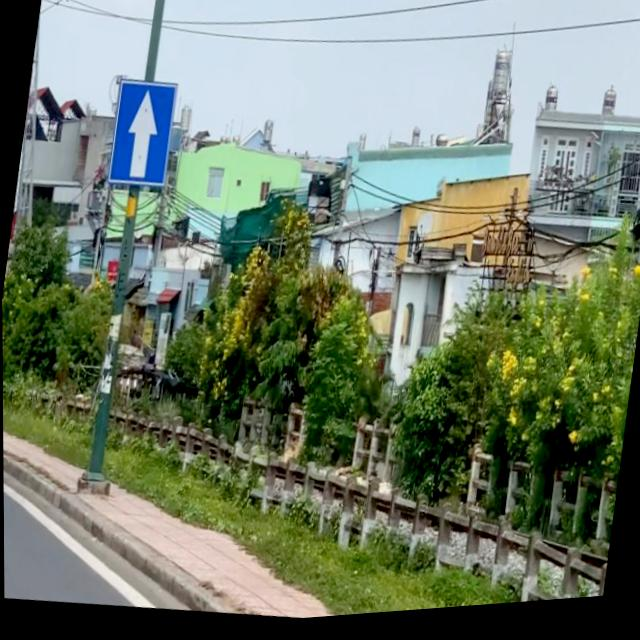Duong mot chieu: (105, 76, 180, 195)
